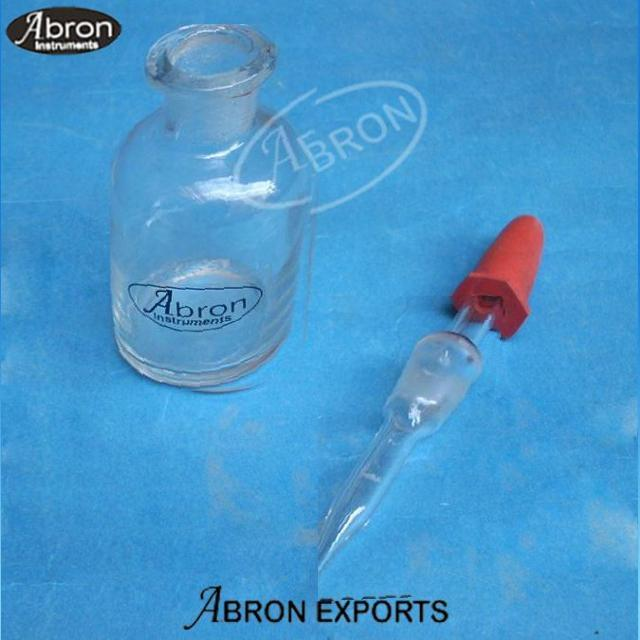Glass: (110, 24, 320, 397), (318, 296, 506, 603)
